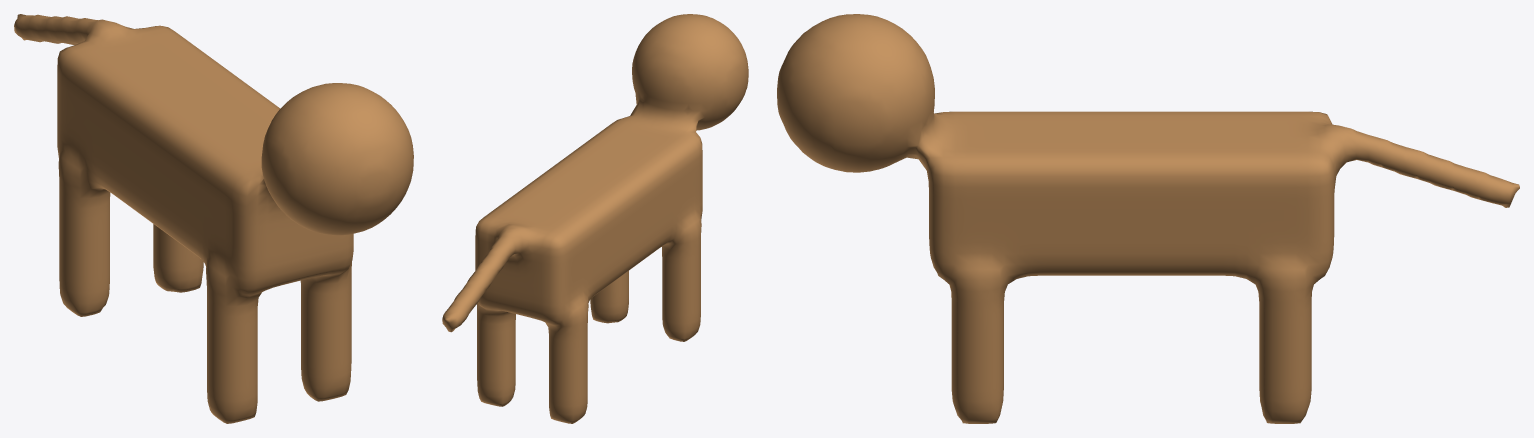
File: dog_mesh.glb
3 views of the same model, side by side, from view 1: azimuth 30°, elevation 25°; view 2: azimuth 150°, elevation 25°; view 3: azimuth 270°, elevation 25° (orthographic). The views are drawn at different scales.
Visible parts, largest first — view 1: demo_quadruped; view 2: demo_quadruped; view 3: demo_quadruped.
Boxes of the visible parts, x1,y1,x2,y2 form: demo_quadruped: (14,14,413,423); demo_quadruped: (442,14,748,423); demo_quadruped: (777,14,1519,423).
Bounding box in the file's own units: 0.4086 × 1.02 × 1.83.
